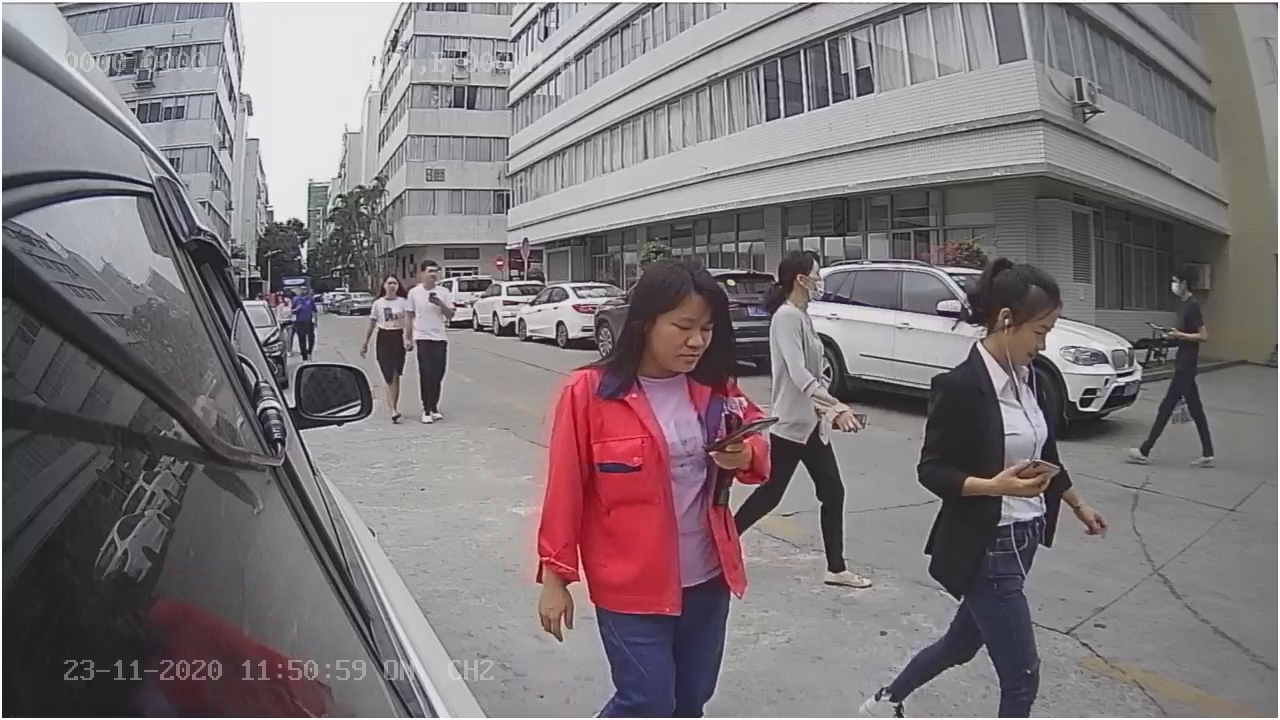person: (908, 259, 1109, 556), (748, 239, 870, 412), (1128, 258, 1221, 464), (361, 261, 417, 420)
